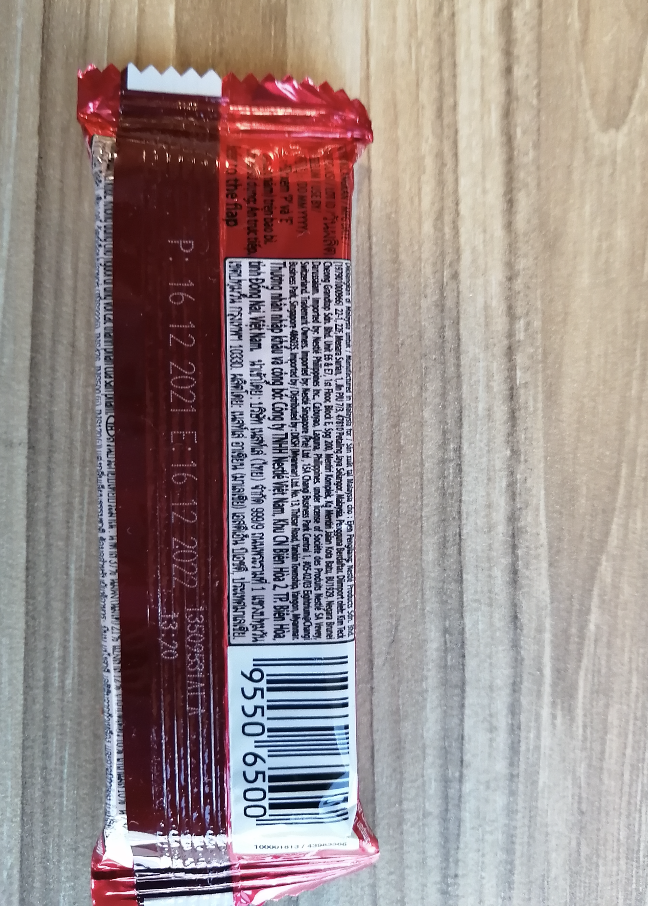Kitkat: (112, 147, 350, 834)
